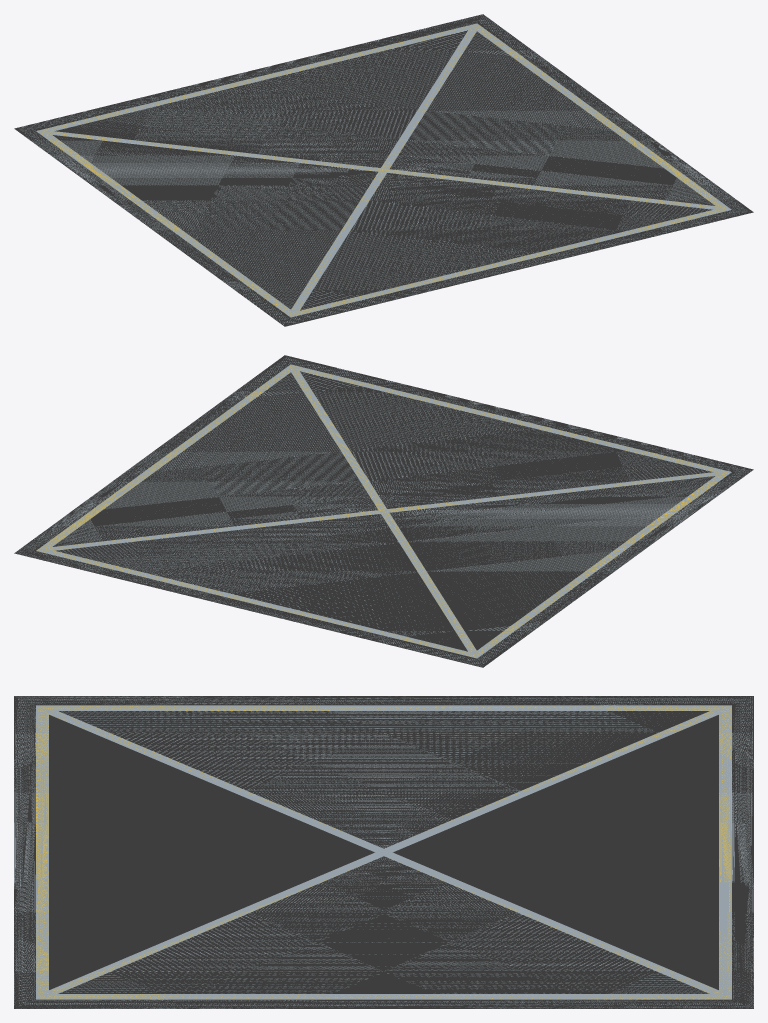
Rendered from intersection_4x4.fbx.
3 renders of one model, top to bottom at view 1: azimuth 30°, elevation 25°; view 2: azimuth 150°, elevation 25°; view 3: azimuth 270°, elevation 25°, orthographic. The views are drawn at different scales.
Parts seen in each view (by area): view 1: Model; view 2: Model; view 3: Model.
Boxes of the visible parts, x1,y1,x2,y2 form: Model: (14, 14, 753, 326); Model: (14, 355, 753, 667); Model: (14, 696, 753, 1008).
Size of the model in its own units: 16.9 by 0 by 16.9.
